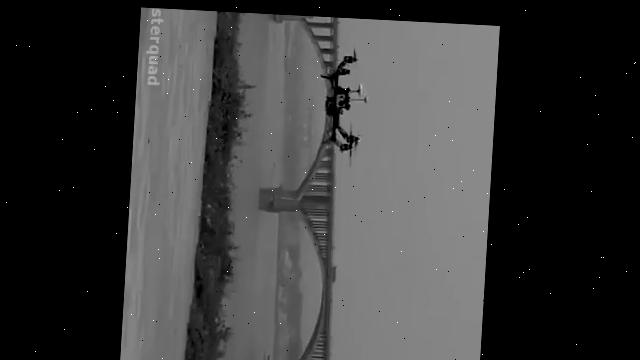drone: (315, 37, 375, 168)
